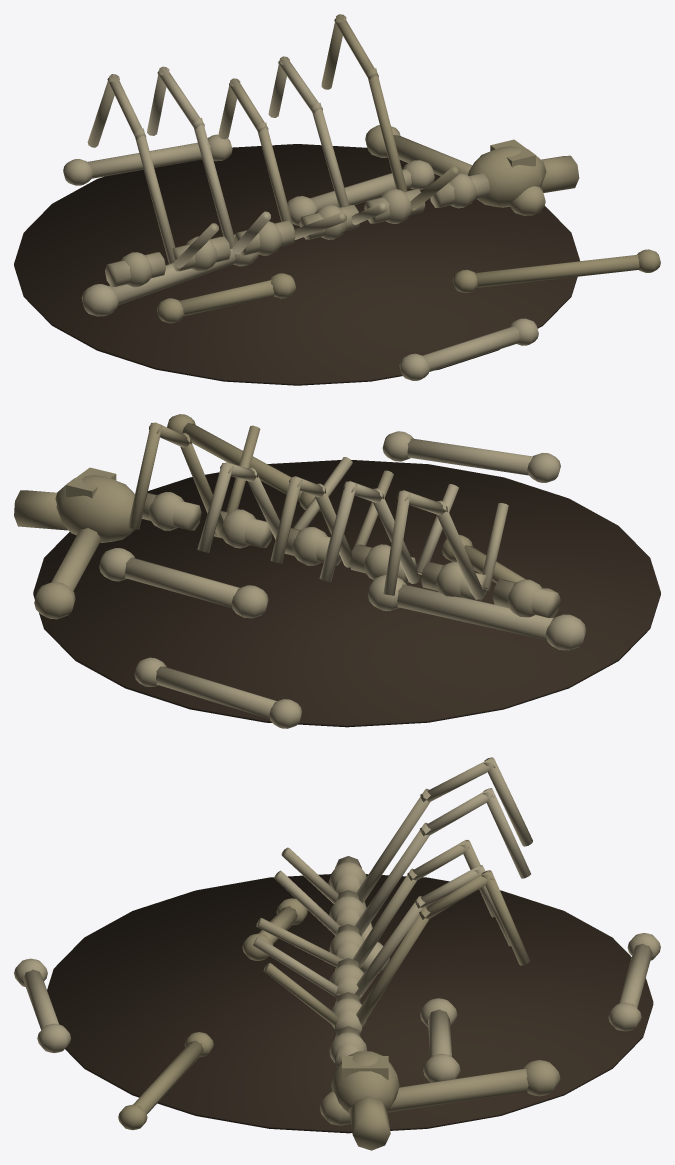
File: prop_bone_pile.glb
The picture shows the model from 3 angles, top to bottom: view 1: azimuth 30°, elevation 25°; view 2: azimuth 150°, elevation 25°; view 3: azimuth 270°, elevation 25°; orthographic projection. The views are drawn at different scales.
Visible parts, largest first — view 1: kill_stain, skull, bone_6, bone_2, bone_5, bone_4, bone_3, rib_0_0, rib_1_0, bone_1, rib_4_0, bone_0 (+37 smaller); view 2: kill_stain, skull, bone_3, bone_1, bone_5, bone_2, bone_6, muzzle, bone_0, rib_4_2, rib_1_2, rib_0_2 (+36 smaller); view 3: kill_stain, bone_0, skull, muzzle, rib_4_0, bone_6, rib_0_0, rib_1_0, rib_3_0, rib_2_0, bone_2, rib_4_2 (+21 smaller).
Boxes of the visible parts, x1=… form: kill_stain: x1=14, y1=144, x2=579, y2=385; skull: x1=468, y1=146, x2=546, y2=207; bone_6: x1=475, y1=255, x2=639, y2=287; bone_2: x1=88, y1=142, x2=210, y2=178; bone_5: x1=422, y1=326, x2=519, y2=371; bone_4: x1=179, y1=280, x2=274, y2=316; bone_3: x1=109, y1=249, x2=235, y2=305; rib_0_0: x1=133, y1=128, x2=175, y2=264; rib_1_0: x1=192, y1=117, x2=235, y2=249; bone_1: x1=310, y1=169, x2=411, y2=209; rib_4_0: x1=366, y1=68, x2=407, y2=191; bone_0: x1=393, y1=135, x2=472, y2=176; kill_stain: x1=33, y1=460, x2=660, y2=727; skull: x1=55, y1=475, x2=141, y2=542; bone_3: x1=397, y1=584, x2=552, y2=640; bone_1: x1=125, y1=557, x2=239, y2=607; bone_5: x1=407, y1=438, x2=532, y2=475; bone_2: x1=156, y1=666, x2=276, y2=719; bone_6: x1=182, y1=423, x2=320, y2=511; muzzle: x1=14, y1=490, x2=67, y2=530; bone_0: x1=51, y1=528, x2=101, y2=590; rib_4_2: x1=128, y1=423, x2=162, y2=529; rib_1_2: x1=319, y1=481, x2=357, y2=581; rib_0_2: x1=383, y1=491, x2=410, y2=595; kill_stain: x1=47, y1=874, x2=653, y2=1133; bone_0: x1=387, y1=1069, x2=528, y2=1112; skull: x1=331, y1=1051, x2=399, y2=1112; muzzle: x1=349, y1=1096, x2=390, y2=1150; rib_4_0: x1=356, y1=906, x2=430, y2=1026; bone_6: x1=129, y1=1040, x2=203, y2=1128; rib_0_0: x1=356, y1=788, x2=430, y2=903; rib_1_0: x1=354, y1=822, x2=430, y2=935; rib_3_0: x1=355, y1=896, x2=425, y2=996; rib_2_0: x1=352, y1=868, x2=417, y2=967; bone_2: x1=619, y1=943, x2=652, y2=1007; rib_4_2: x1=481, y1=870, x2=529, y2=965.
Bounding box in the file's own units: 1.55 × 0.498 × 1.53.
